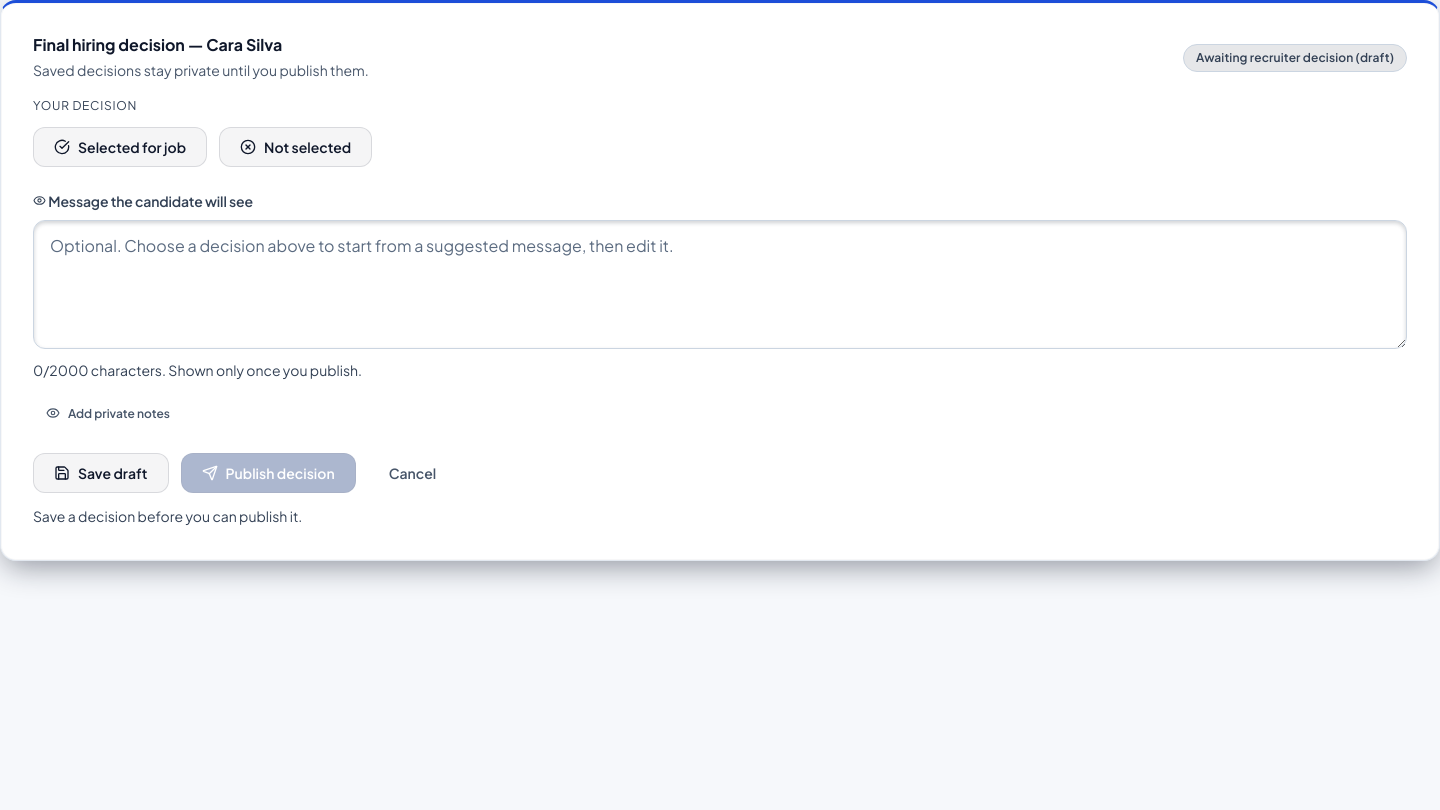
it: saving sends the decision and says the candidate has not been told
Click the button "Selected for job".
click(120, 147)  # box [33,127,207,167]
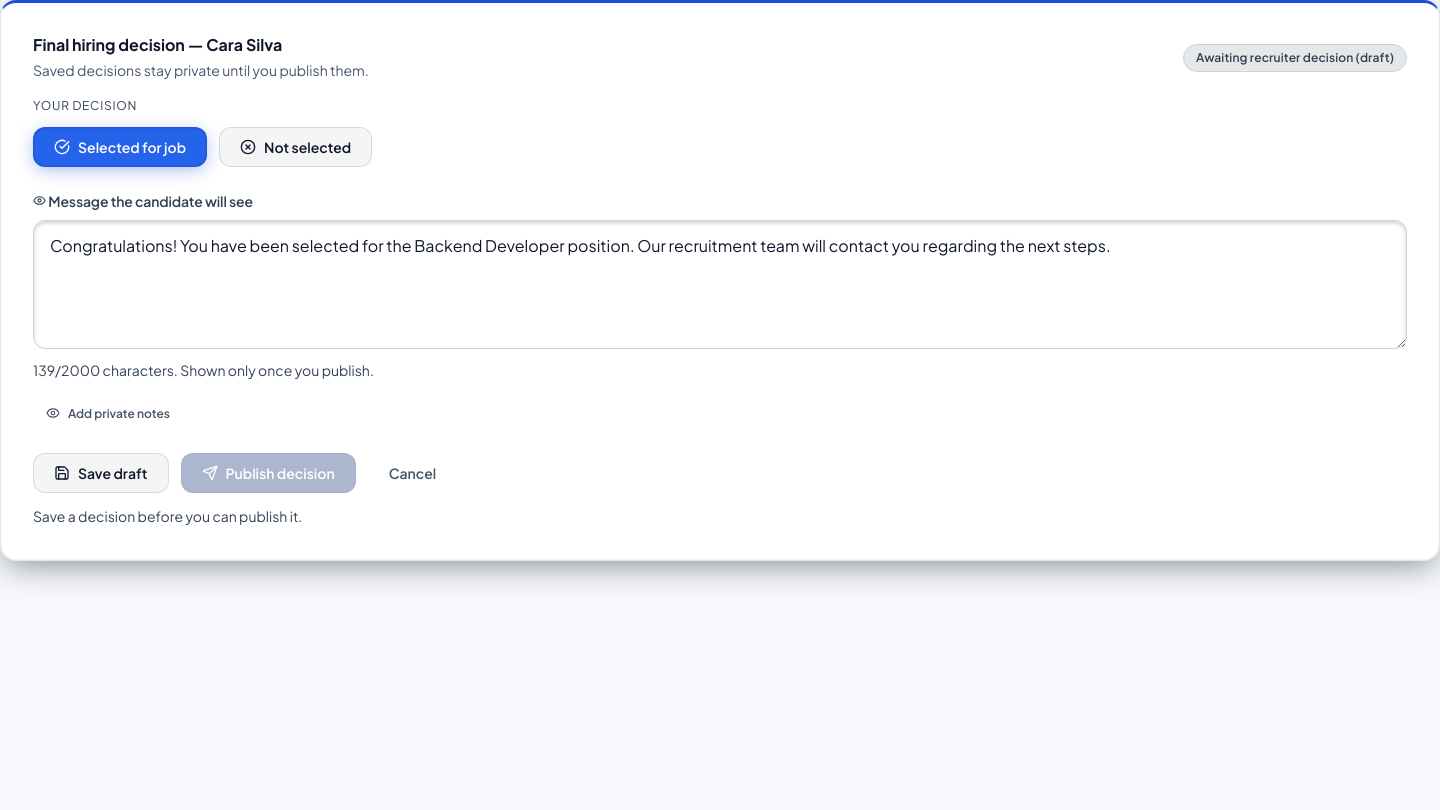
Click the button "Save draft".
click(101, 473)  # box [33,453,168,493]
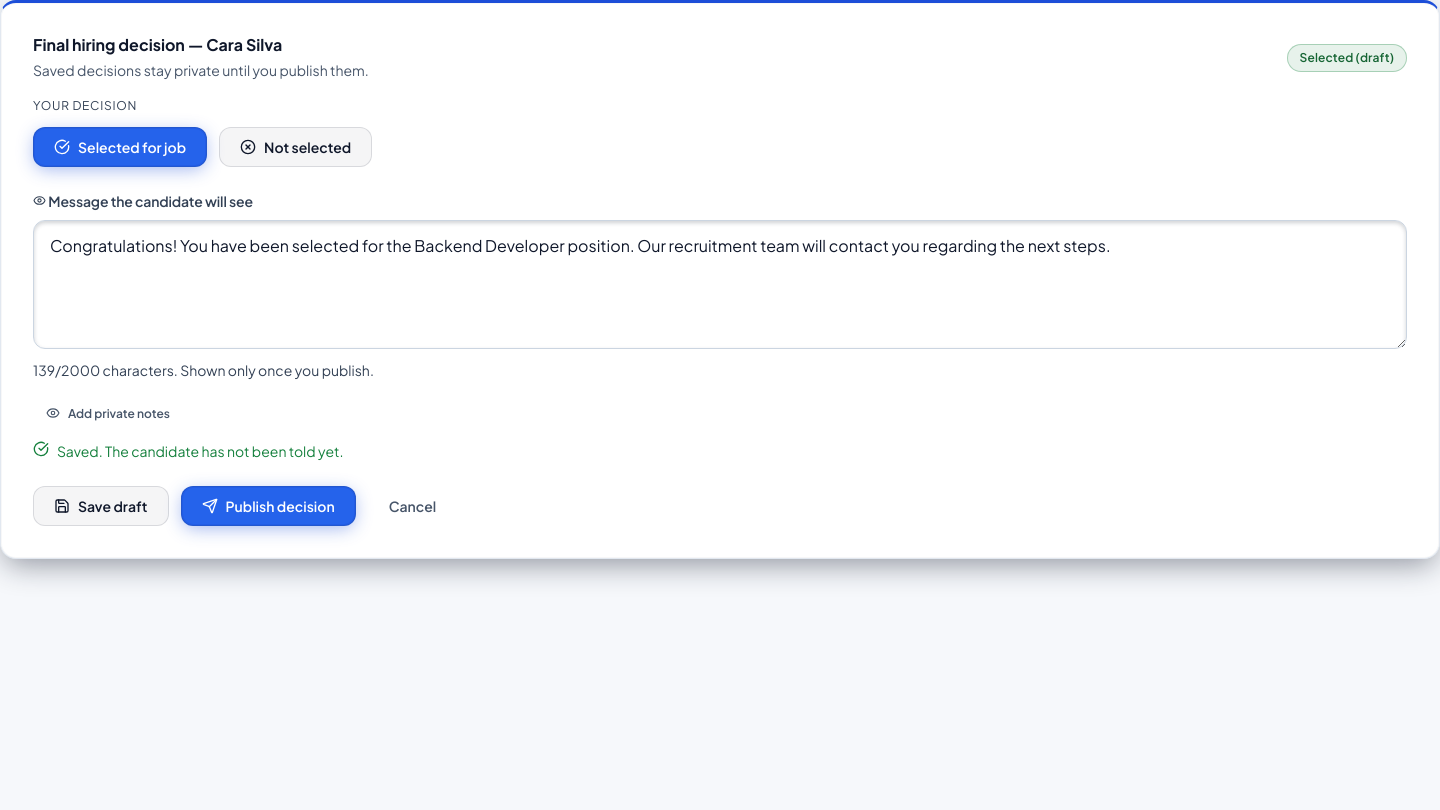
Check: the text "has not been told yet" is shown, box [57,442,344,460]
